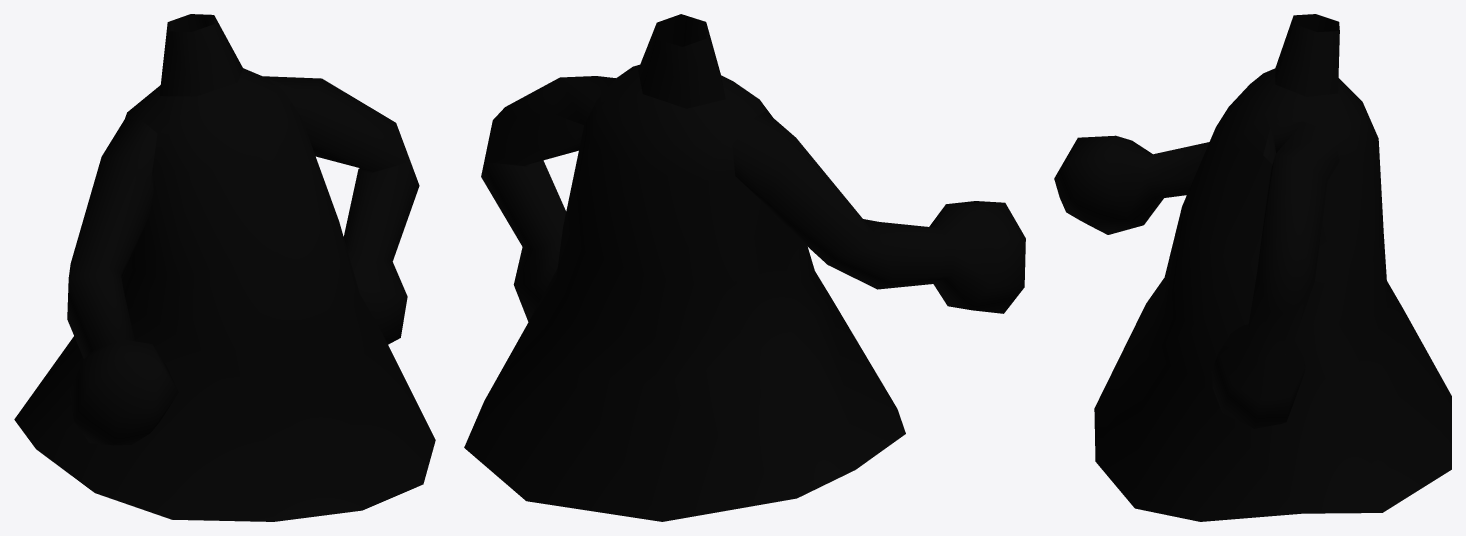
File: tops_onpN.dae
The picture shows the model from 3 angles, left to right: view 1: azimuth 30°, elevation 25°; view 2: azimuth 150°, elevation 25°; view 3: azimuth 270°, elevation 25°; orthographic projection. The views are drawn at different scales.
Visible parts, largest first — view 1: tops_onpN; view 2: tops_onpN; view 3: tops_onpN.
Part boxes in pixels (x1,y1,x2,y2): tops_onpN: (14, 14, 435, 521); tops_onpN: (464, 14, 1025, 521); tops_onpN: (1054, 14, 1451, 521).
Size of the model in its own units: 21.71 by 21.03 by 17.92.
Materials: 1 (1 with a texture image).
